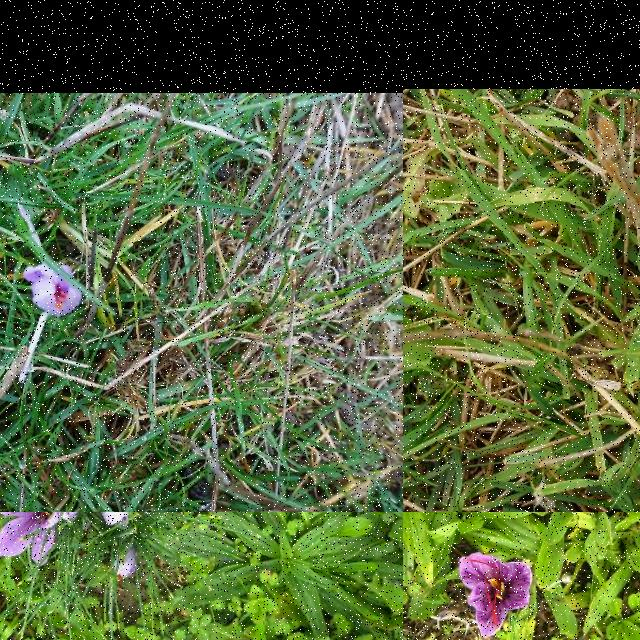flower: (459, 553, 530, 640), (0, 512, 61, 567), (23, 264, 82, 318), (114, 544, 138, 582), (100, 512, 132, 528), (61, 512, 80, 524)
